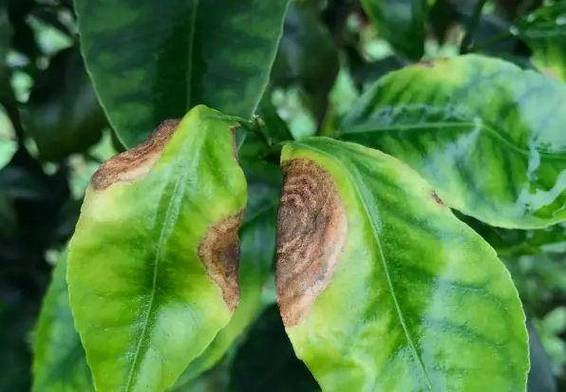Anthracnose: (277, 164, 355, 326), (87, 98, 186, 192), (196, 183, 252, 292)
